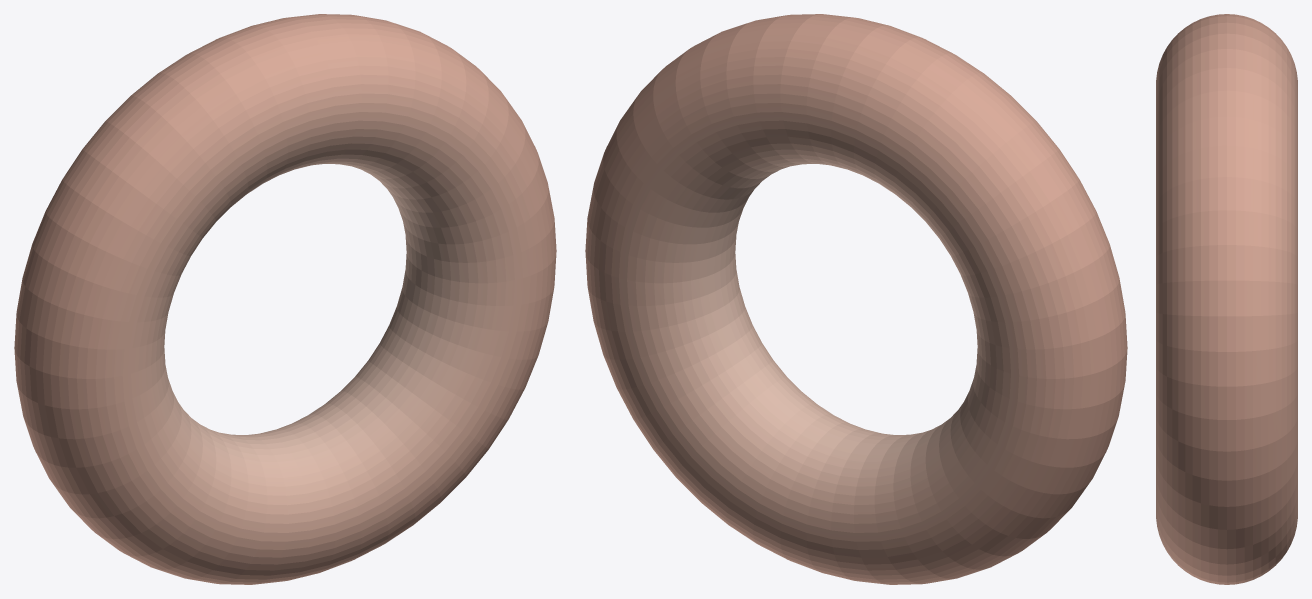
3 views of the same model, side by side, from view 1: azimuth 30°, elevation 25°; view 2: azimuth 150°, elevation 25°; view 3: azimuth 270°, elevation 25° (orthographic). The views are drawn at different scales.
Visible parts, largest first — view 1: world; view 2: world; view 3: world.
Boxes of the visible parts, left/top/right/bottom form: world: left=14, top=14, right=556, bottom=584; world: left=585, top=14, right=1127, bottom=584; world: left=1156, top=14, right=1297, bottom=584.
Size of the model in its own units: 28.4 by 28.34 by 7.05.
